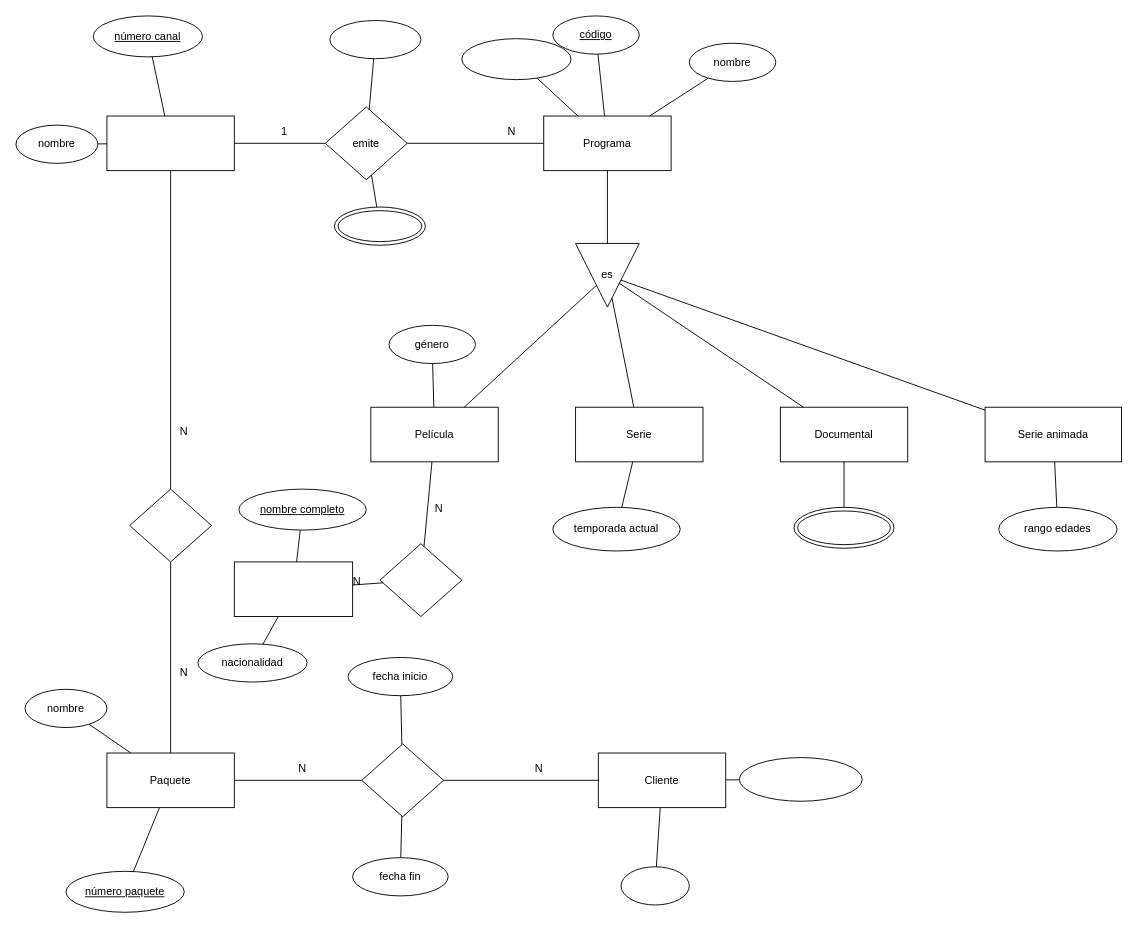
Image size: 1138x928. Some labels were removed from this diagram. Each missing label, with the centre of its shape:
Actor: [293,589]
Canal: [170,143]
ci: [654,885]
contrata: [402,780]
datos personales: [800,779]
descripción: [516,59]
días*: [379,225]
habilita: [170,525]
horario: [375,39]
participa: [420,580]
temas*: [843,527]
